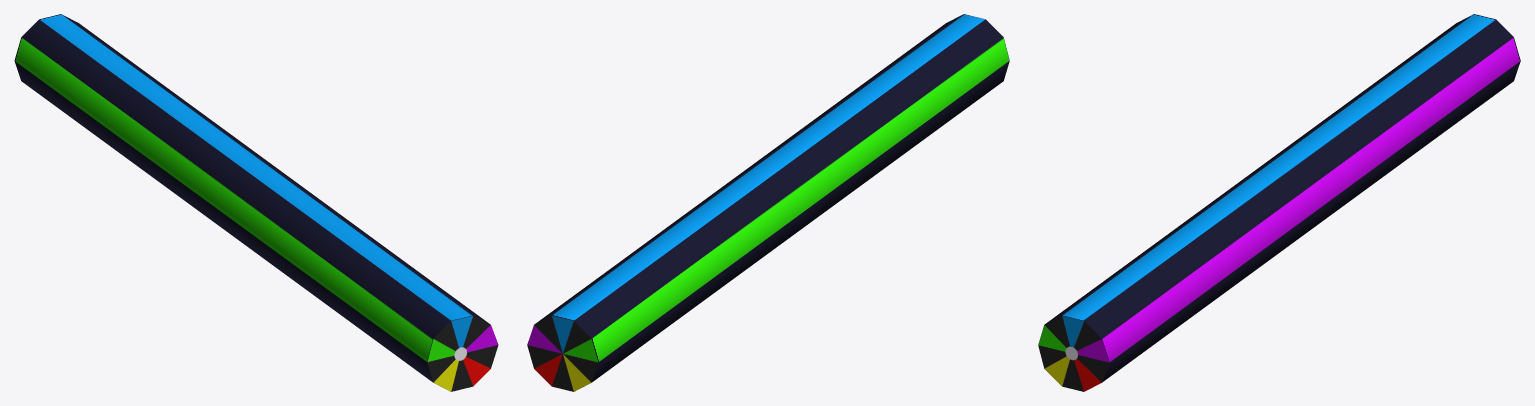
Rendered from Cable.FBX.
3 renders of one model, left to right at view 1: azimuth 30°, elevation 25°; view 2: azimuth 150°, elevation 25°; view 3: azimuth 330°, elevation 25°, orthographic.
Parts seen in each view (by area): view 1: Cylinder001; view 2: Cylinder001; view 3: Cylinder001.
Boxes of the visible parts, box(x1,y1,x2,y2) form: Cylinder001: box(14, 14, 498, 391); Cylinder001: box(527, 14, 1009, 391); Cylinder001: box(1038, 14, 1520, 391).
Bounding box in the file's own units: 3.98 × 39.37 × 3.74.
1 material, 1 textured.
